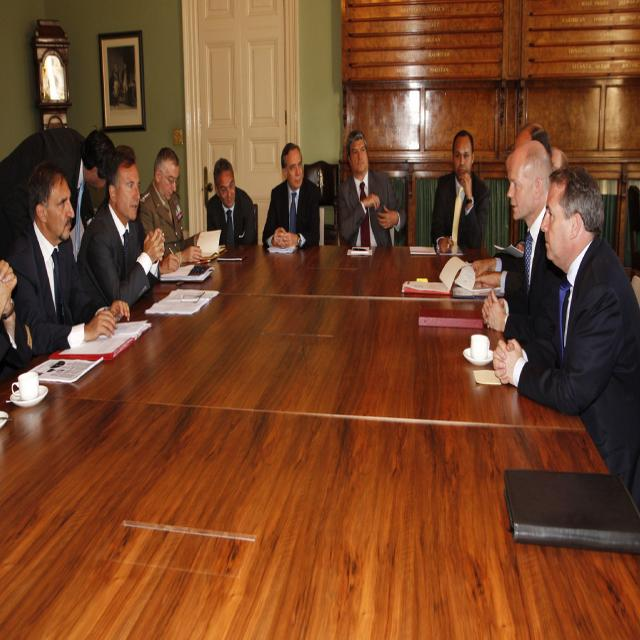chair: (304, 159, 339, 245), (627, 182, 640, 282)
desk: (1, 243, 638, 638)
person: (484, 161, 640, 499), (4, 158, 129, 361), (478, 131, 570, 363), (0, 126, 114, 263), (77, 145, 164, 312), (138, 145, 210, 272), (431, 128, 490, 257), (337, 127, 400, 247), (261, 141, 321, 249), (205, 157, 258, 246), (0, 256, 34, 380)
